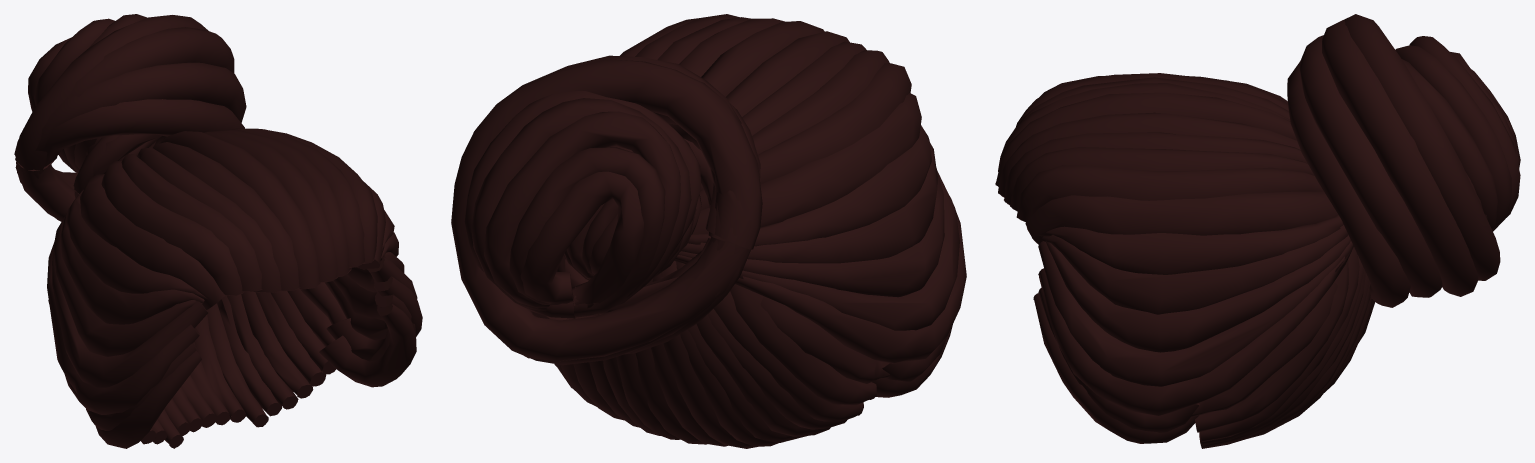
The model's file is hair-7-d76a9bda.glb.
The picture shows the model from 3 angles, left to right: view 1: azimuth 30°, elevation 25°; view 2: azimuth 150°, elevation 25°; view 3: azimuth 270°, elevation 25°; orthographic projection. The views are drawn at different scales.
Visible parts, largest first — view 1: hair_7.001; view 2: hair_7.001; view 3: hair_7.001.
Part boxes in pixels (x1=…): hair_7.001: x1=14, y1=14, x2=422, y2=448; hair_7.001: x1=451, y1=14, x2=966, y2=448; hair_7.001: x1=995, y1=14, x2=1520, y2=448.
Size of the model in its own units: 1.81 by 1.95 by 2.37.
